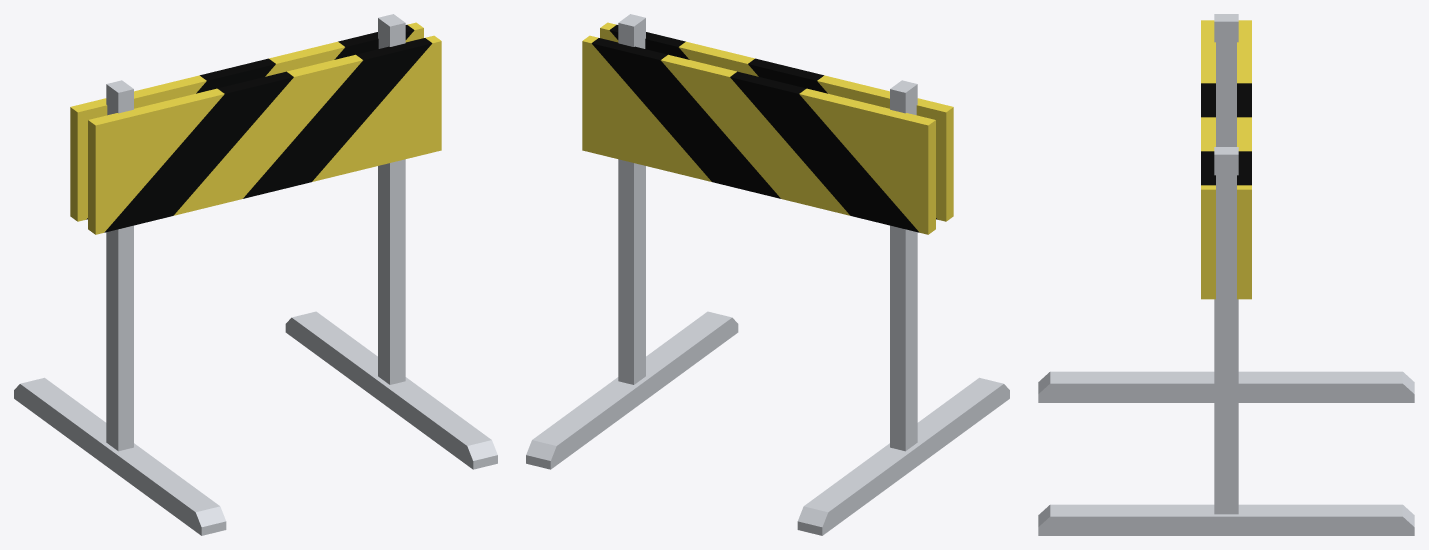
File: Wood_Road_Block_Small.glb
3 renders of one model, left to right at view 1: azimuth 30°, elevation 25°; view 2: azimuth 150°, elevation 25°; view 3: azimuth 270°, elevation 25°, orthographic.
Visible parts, largest first — view 1: Wood Road Block Small; view 2: Wood Road Block Small; view 3: Wood Road Block Small.
Boxes of the visible parts, box(x1,y1,x2,y2) form: Wood Road Block Small: box(14, 14, 497, 535); Wood Road Block Small: box(526, 14, 1009, 535); Wood Road Block Small: box(1038, 14, 1414, 535).
Bounding box in the file's own units: 6.62 × 6.91 × 6.21.
1 material, 1 textured.
